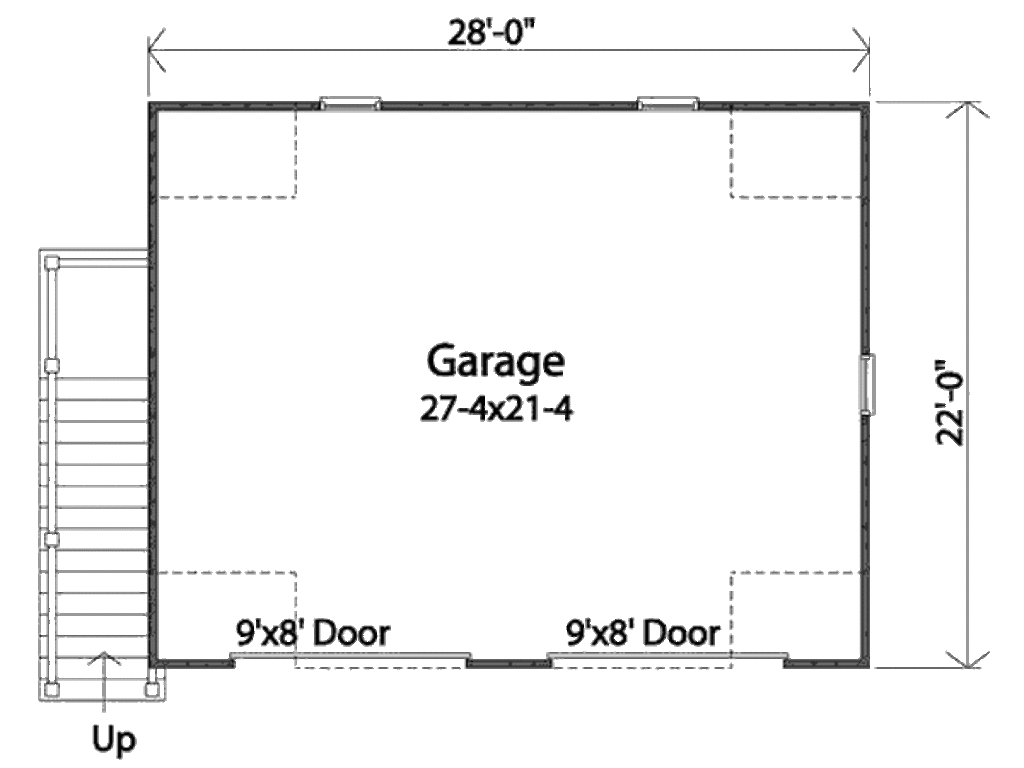stairs: (38, 244, 186, 702)
window: (860, 354, 875, 414), (317, 97, 376, 112), (636, 97, 702, 107)
